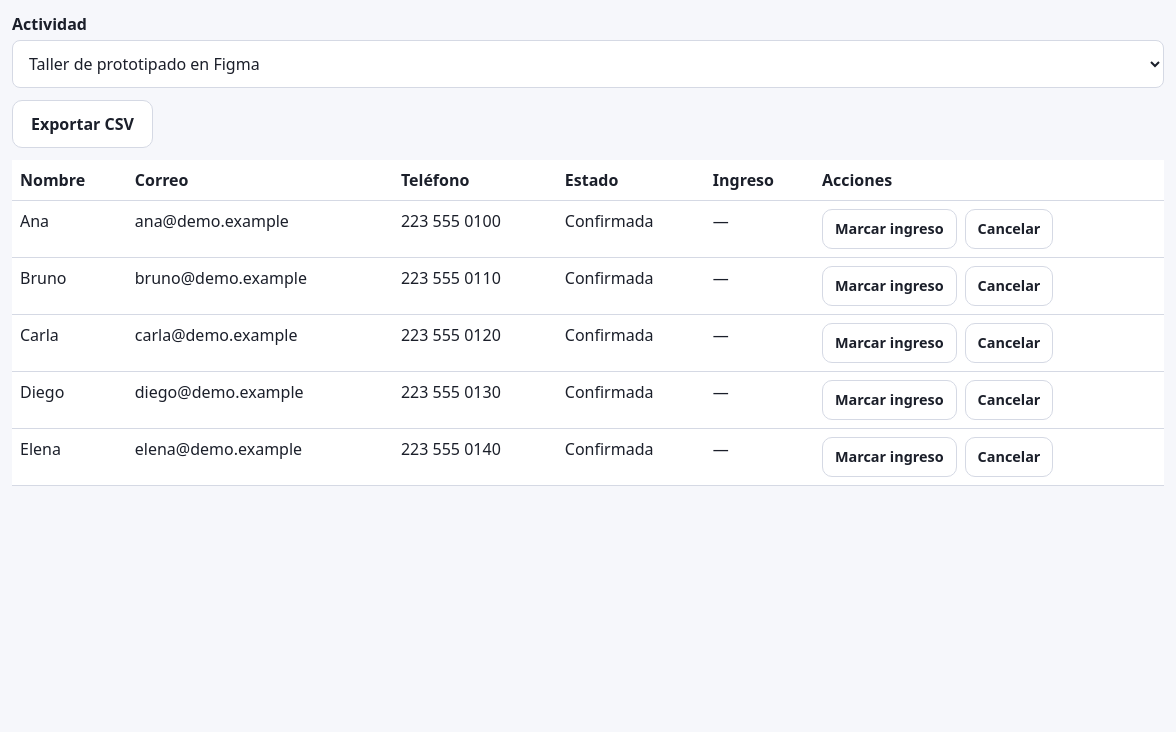
Test case: RegistrantsTab CSV export › shows an accessible alert when the export fails
Click the button "Exportar CSV". click: (82, 124)
box: 12,100 -> 153,148
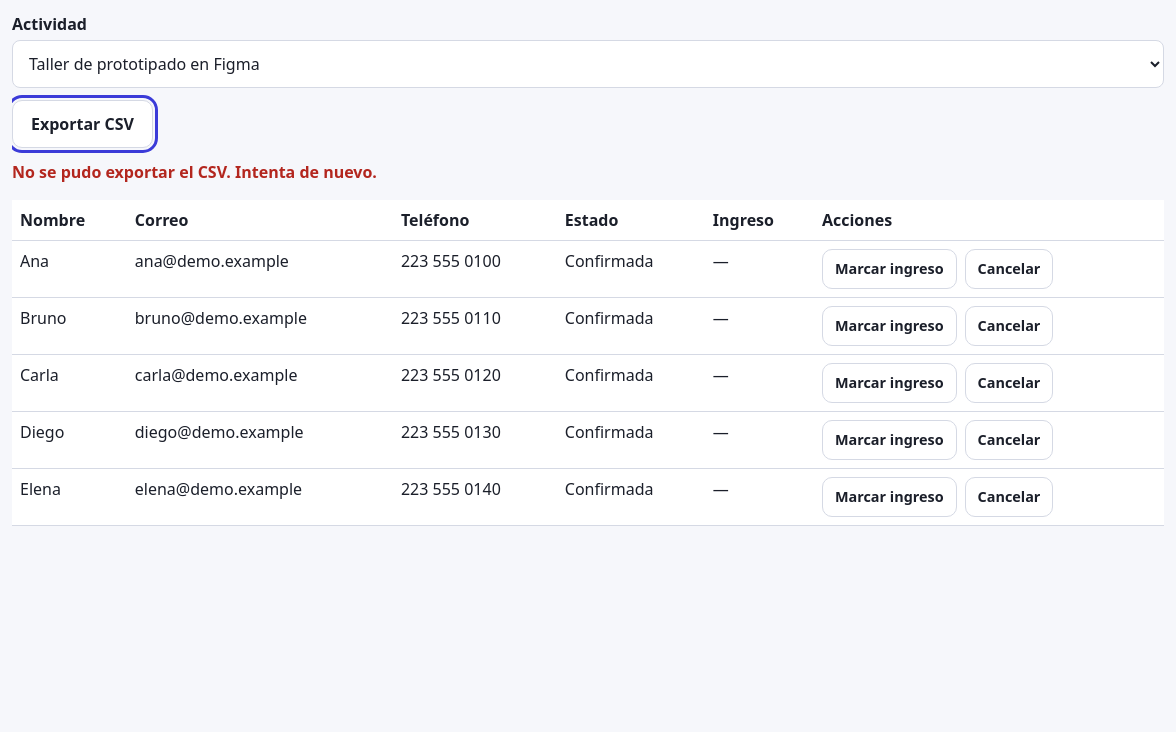
Expected: the message reads "No se pudo exportar el CSV. Intenta de nuevo.", 12,161 -> 377,183
